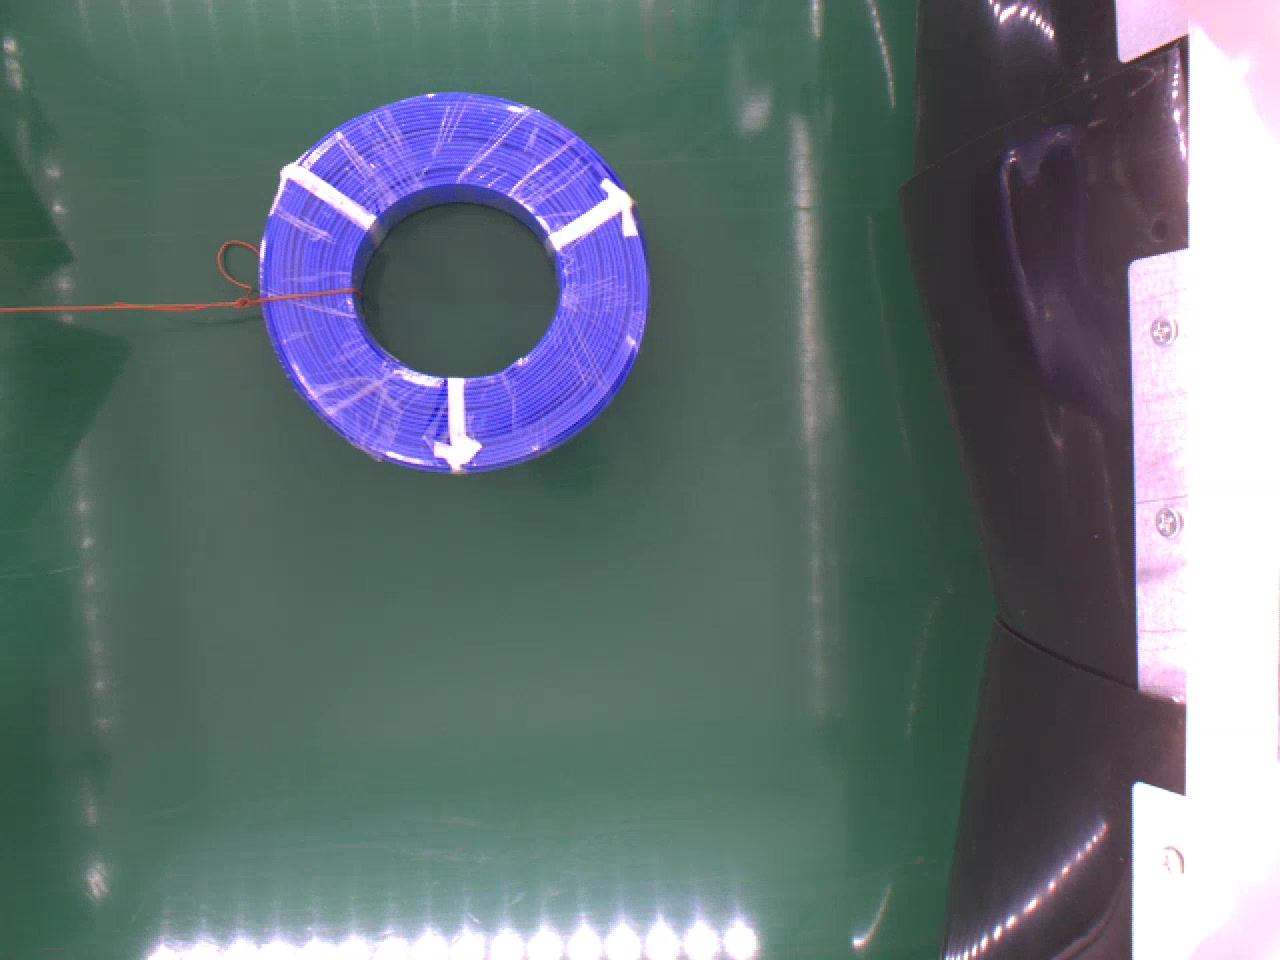blue: (258, 83, 656, 477)
